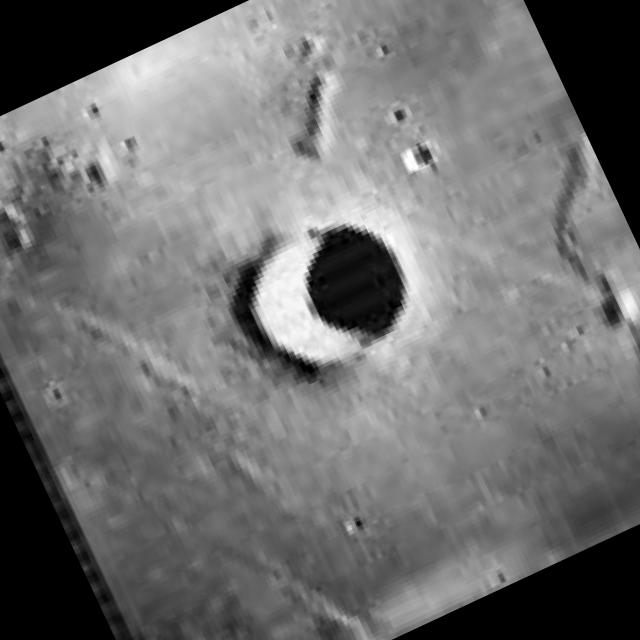crater: (227, 204, 428, 393), (399, 140, 438, 175)
